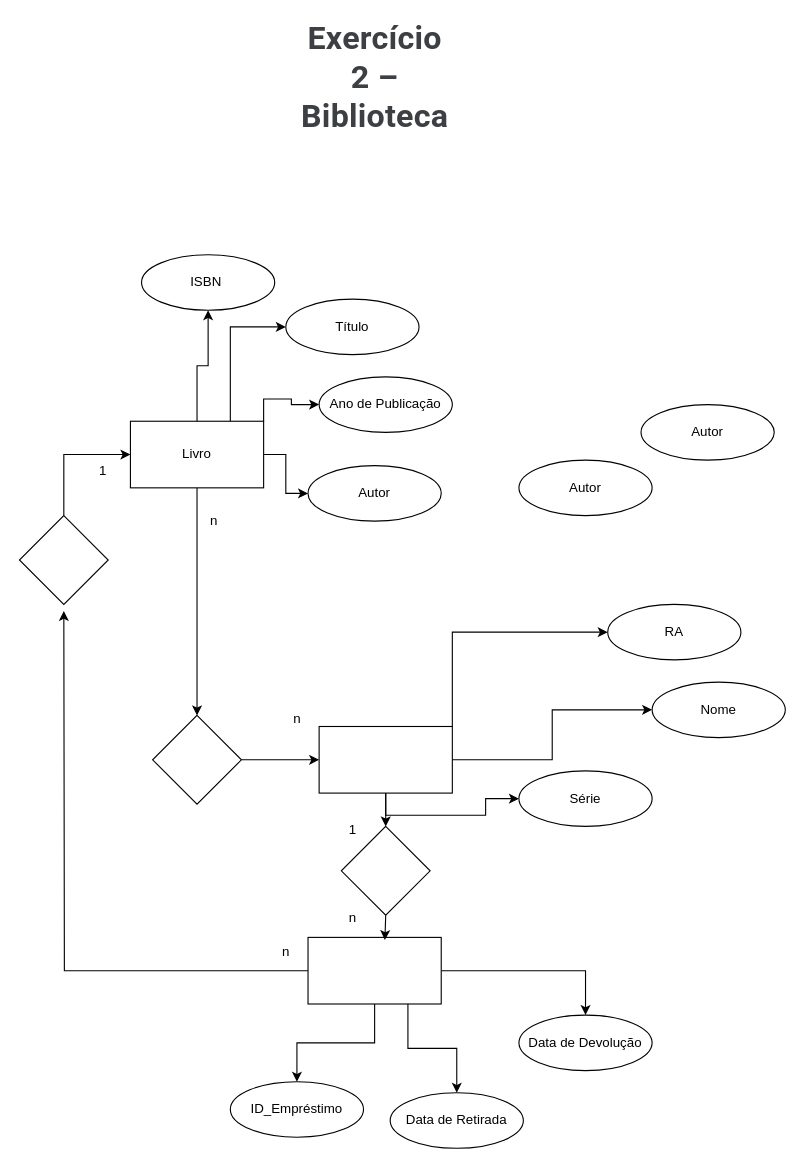
The diagram is 805 pixels wide and 1168 high, and some of its shapes have lost their labels. Here are the shapes that lost their labels. From the top down, the box of each, then its label:
(18, 514, 108, 604): participa
(152, 714, 241, 804): pega
(318, 725, 452, 793): Aluno
(340, 825, 430, 915): realiza
(307, 936, 441, 1004): Empréstimo
